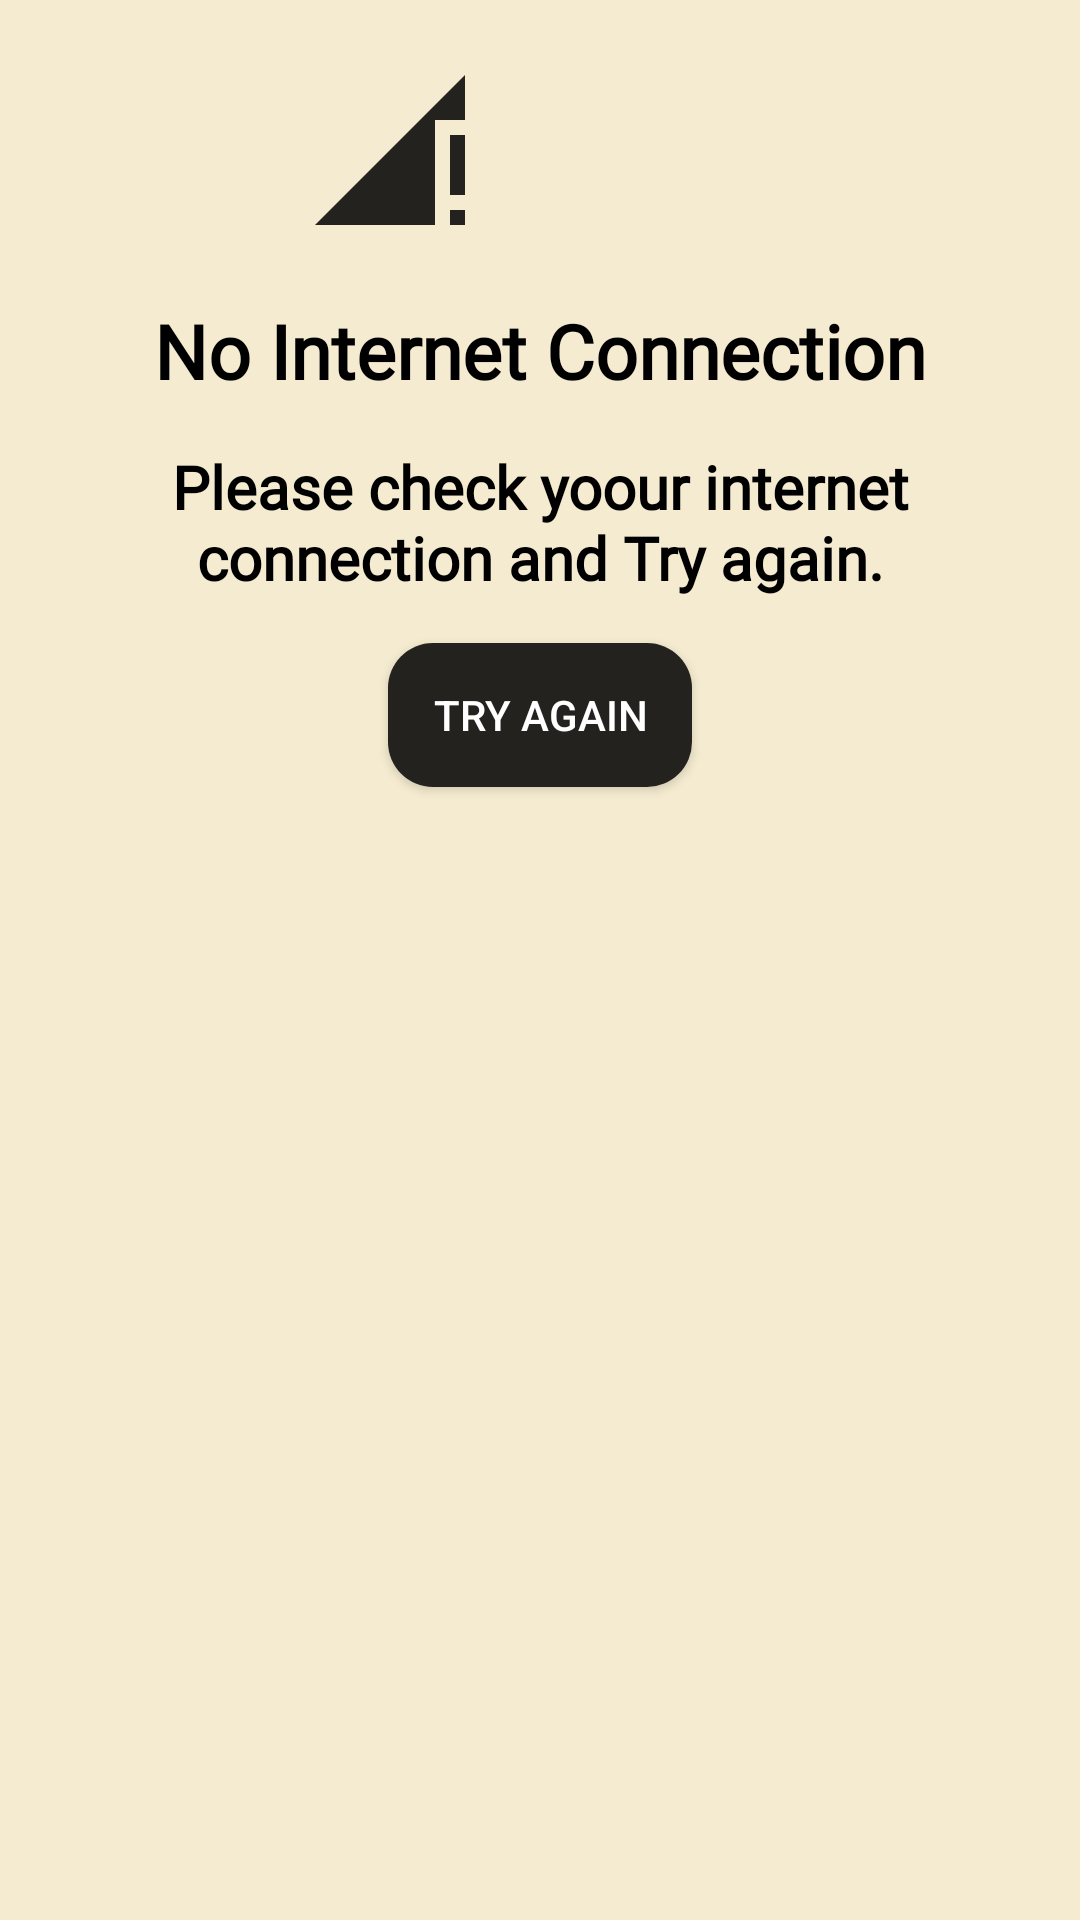

Icon bounding boxes for this 1080×1920 phone screenshot, format (x1, y1, x2, y2):
no internet cell: (315, 75, 465, 225)
